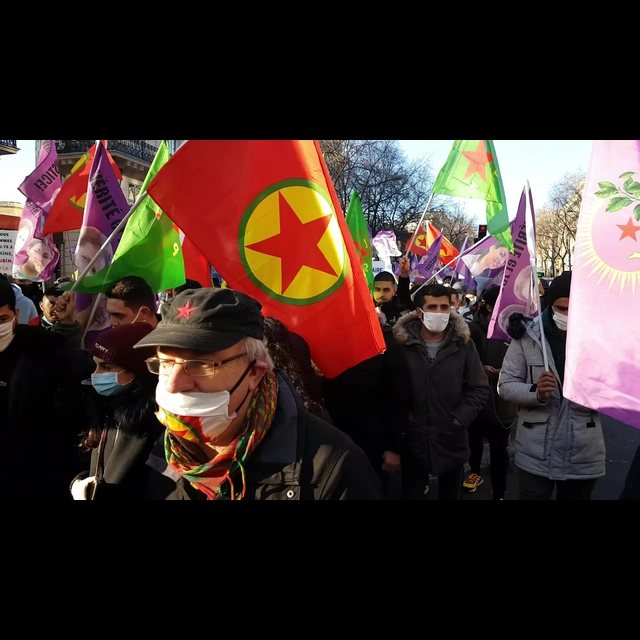PKK: (227, 167, 348, 307)
